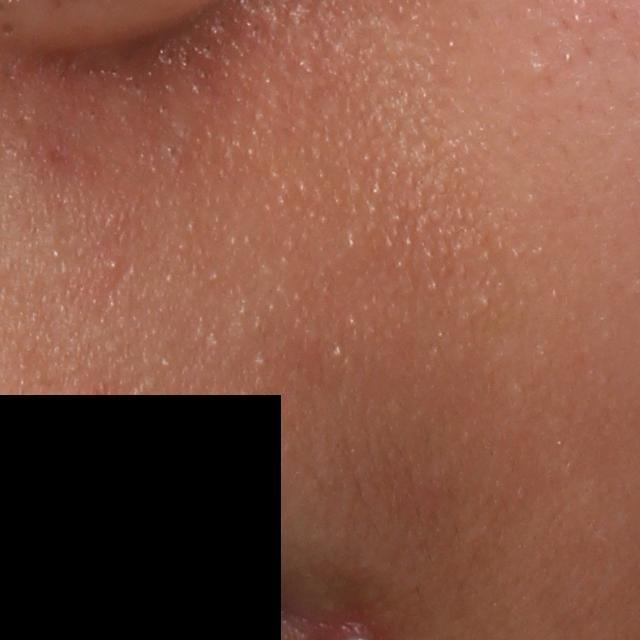comedo: (105, 255, 122, 272)
